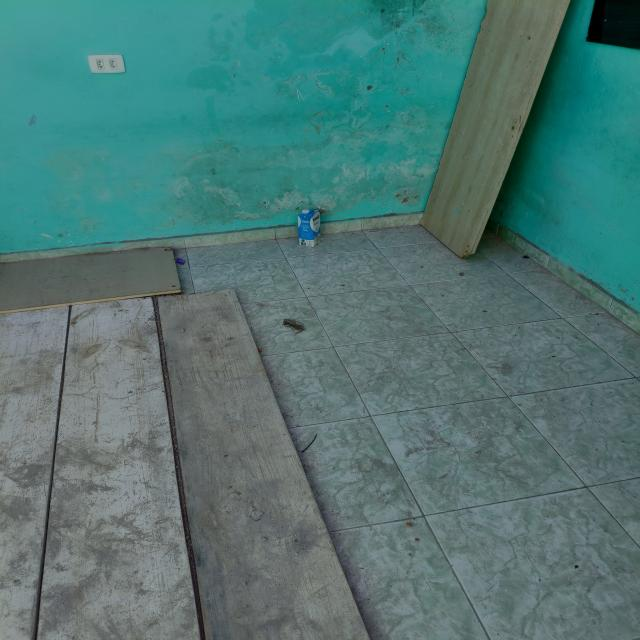Caixa de Leite: (296, 208, 323, 247)
